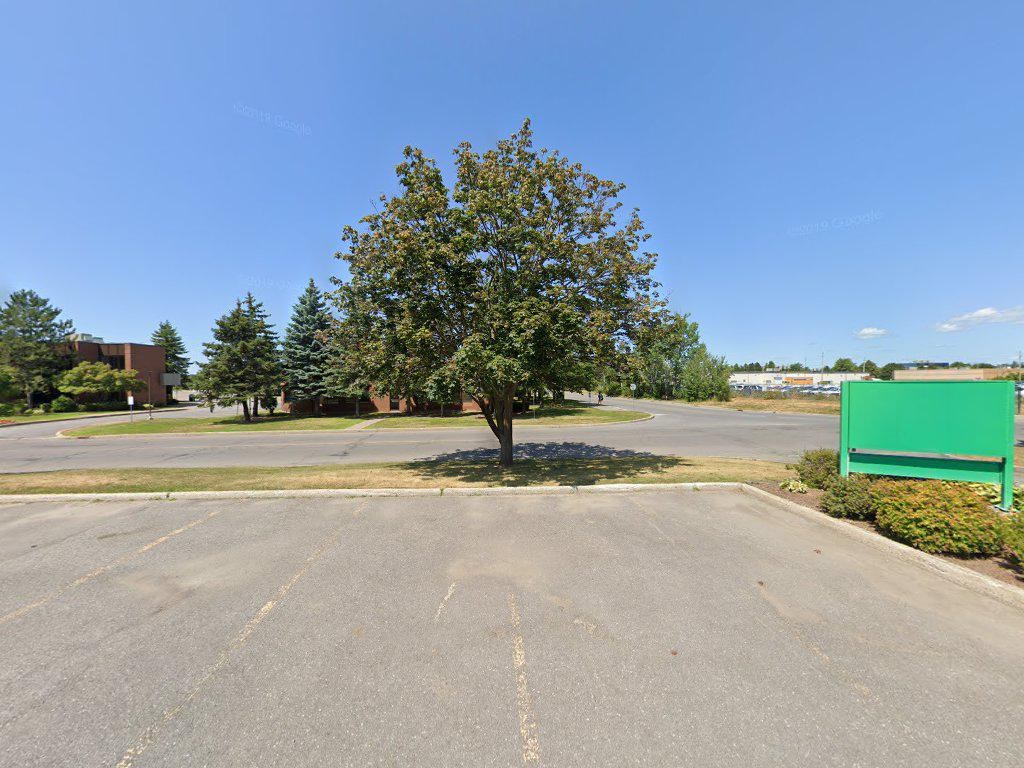trunk: (486, 388, 521, 469)
